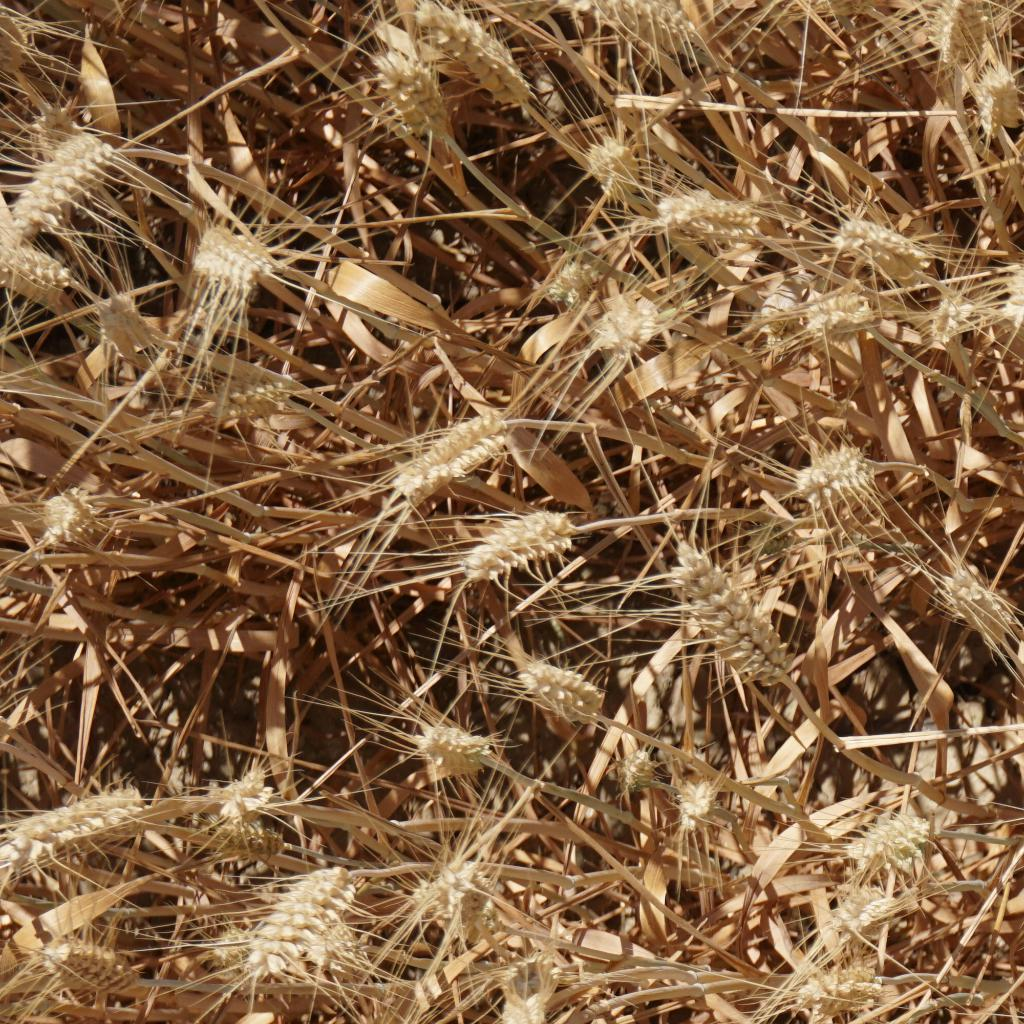0-0: (669, 549, 799, 707), (368, 397, 512, 484), (238, 856, 348, 963), (502, 651, 635, 738), (413, 0, 525, 96), (462, 502, 574, 594), (15, 132, 134, 214), (0, 786, 143, 854), (377, 47, 462, 153), (397, 697, 505, 777), (666, 752, 747, 858), (51, 915, 143, 1004), (188, 366, 295, 442), (606, 706, 675, 814), (842, 807, 953, 874), (413, 850, 504, 931), (578, 0, 712, 55), (537, 230, 616, 322), (19, 484, 118, 553), (186, 214, 273, 291), (825, 888, 917, 954), (797, 435, 878, 507), (4, 234, 86, 305), (789, 954, 889, 1010), (947, 567, 1024, 637), (584, 281, 671, 342), (659, 186, 750, 242), (200, 761, 273, 826), (490, 941, 565, 1002), (835, 212, 913, 269), (966, 74, 1024, 147), (919, 275, 976, 348), (92, 285, 151, 354), (581, 134, 644, 198), (190, 916, 263, 970), (807, 285, 878, 340), (941, 0, 998, 65), (734, 512, 814, 550), (1004, 251, 1024, 328), (348, 1008, 409, 1024), (1012, 998, 1024, 1024)
